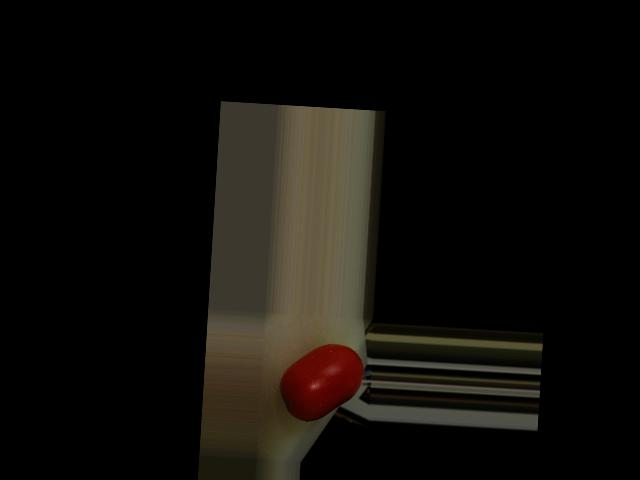tomato: (278, 340, 365, 424)
